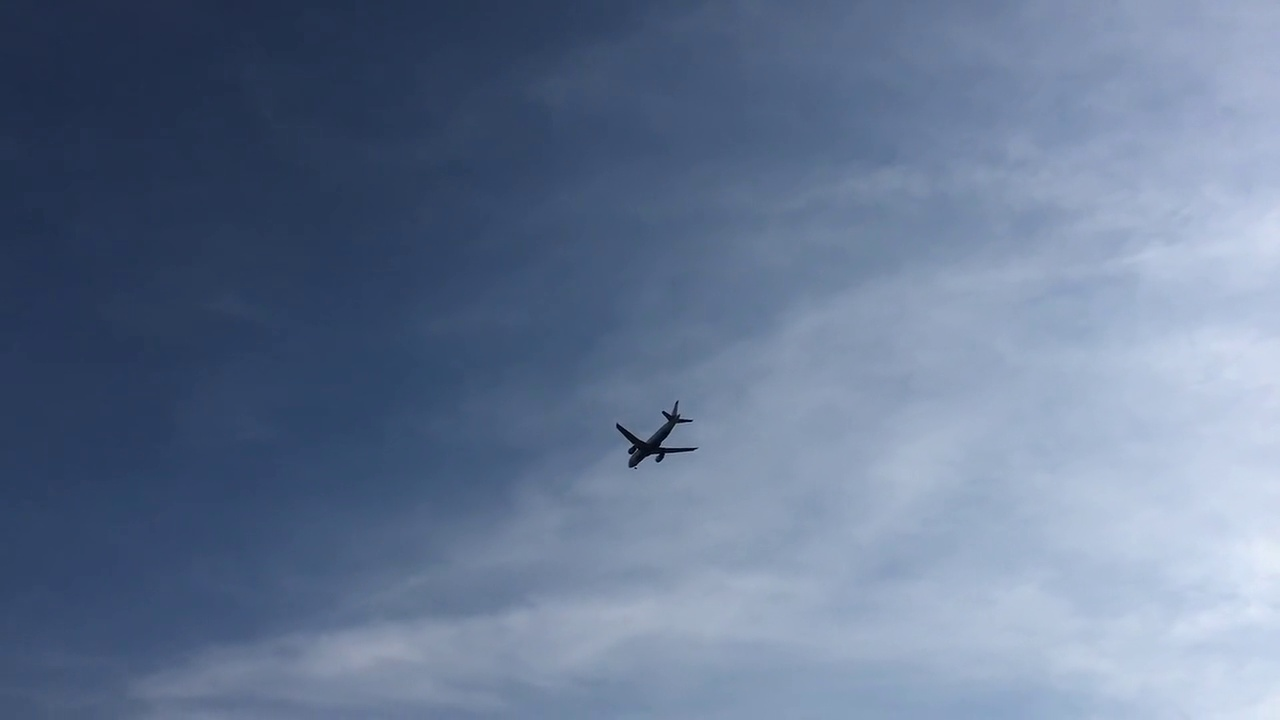plane: (614, 401, 700, 469)
